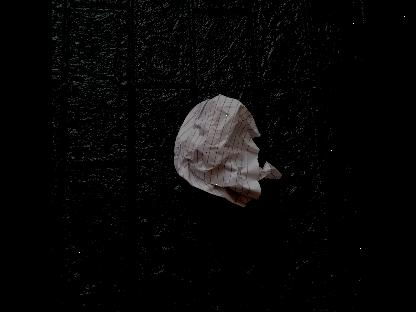Others: (173, 94, 274, 210)
